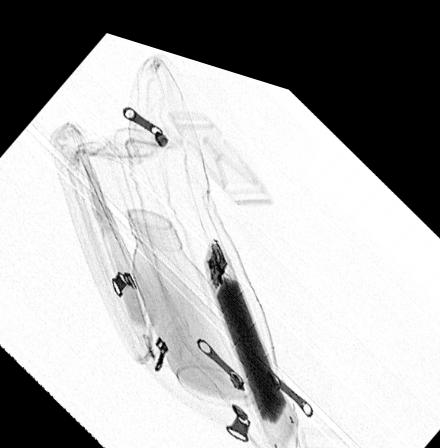Powerbank: (200, 224, 300, 437)
